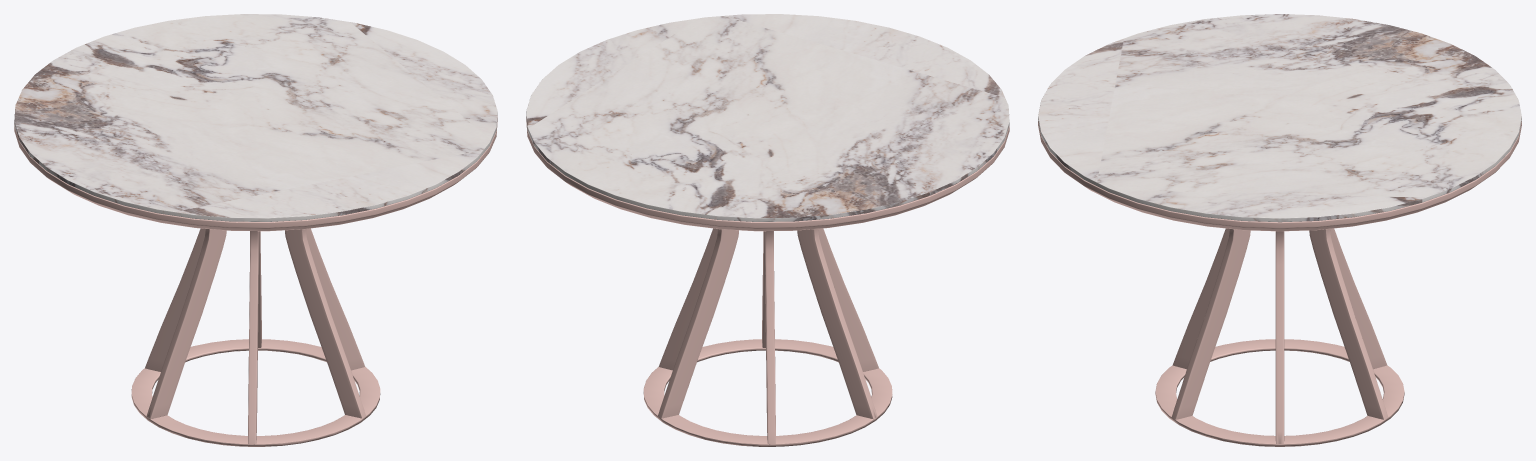
File: SLN_SPIN_B.glb
3 views of the same model, side by side, from view 1: azimuth 30°, elevation 25°; view 2: azimuth 150°, elevation 25°; view 3: azimuth 270°, elevation 25° (orthographic).
Visible parts, largest first — view 1: SPIN_B; view 2: SPIN_B; view 3: SPIN_B.
Part boxes in pixels (x1=…): SPIN_B: x1=14, y1=14, x2=497, y2=446; SPIN_B: x1=526, y1=14, x2=1009, y2=446; SPIN_B: x1=1038, y1=14, x2=1521, y2=446.
Size of the model in its own units: 0.6533 by 0.4149 by 0.6533.
2 materials, 1 textured.
